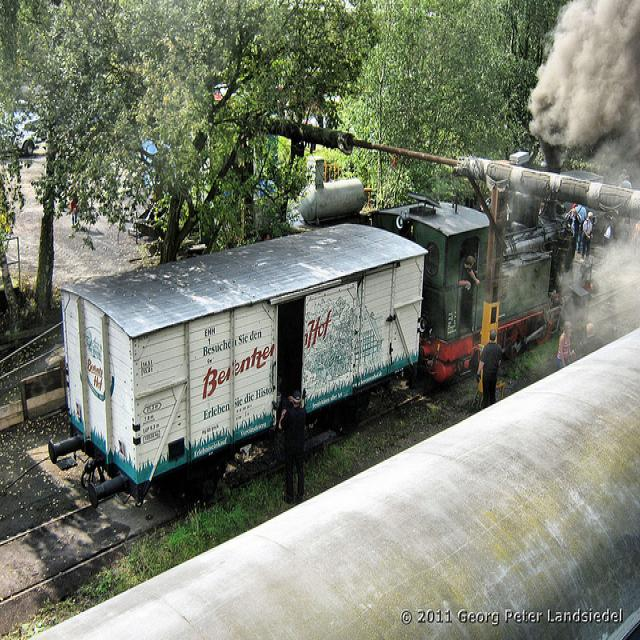Vehicle: (0, 99, 49, 159), (127, 203, 161, 238)
